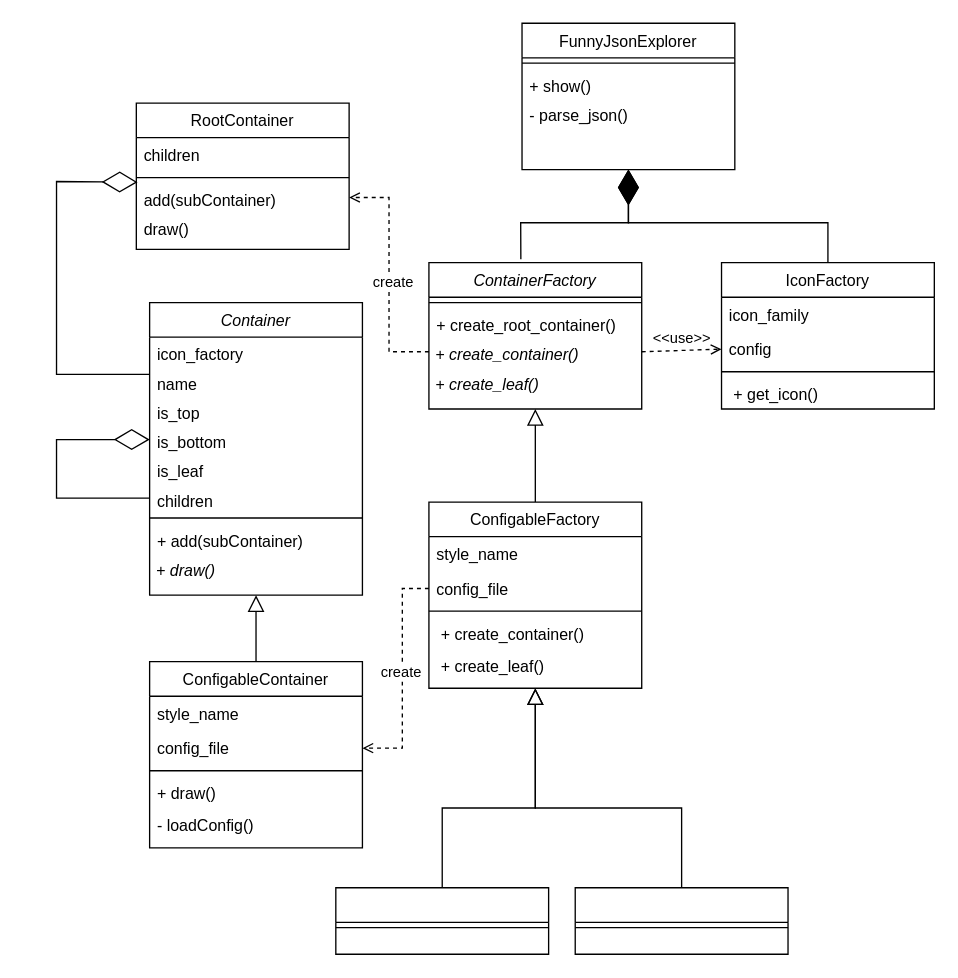
This 958x978 diagram has some shape labels left out. Here are the shapes that lost their labels. From the top down, the centre of each, then its label:
At (441,920): "RectangleFactory".
At (681,920): "TreeFactory".
